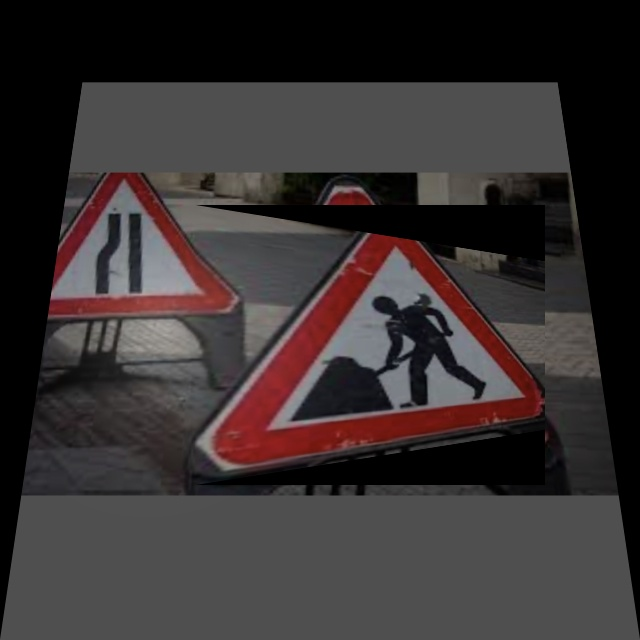Men_at_Work: (195, 205, 545, 485)
